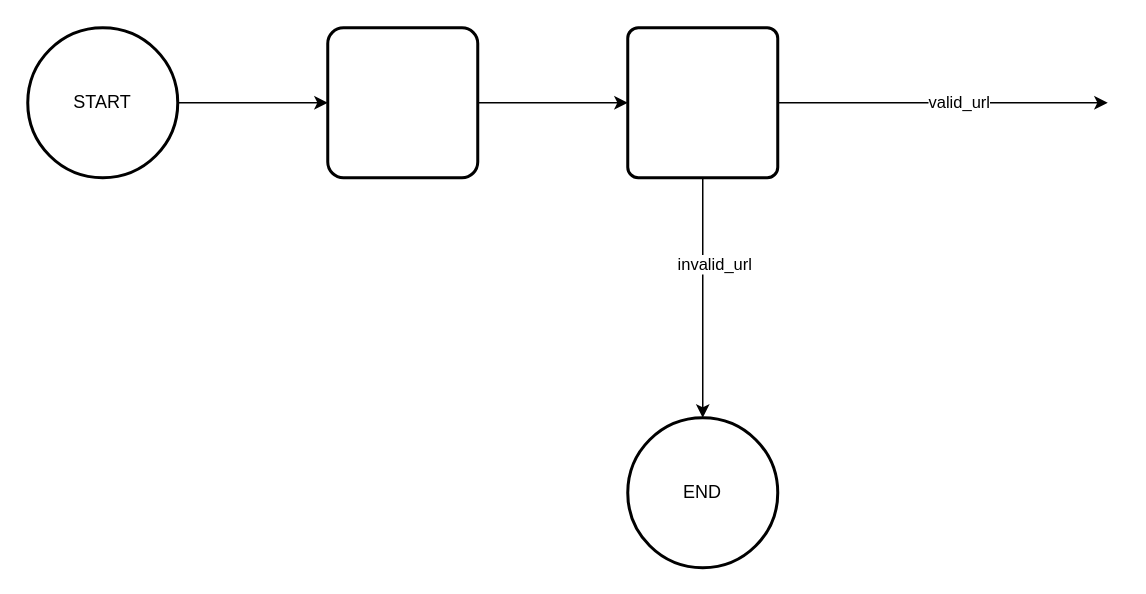
The diagram is 1146 pixels wide and 594 high, and some of its shapes have lost their labels. The shapes that lost their labels are listed below. From the top down, each one's box as (x1, y1, x2, y2) in pixels, then its label:
(326, 26, 478, 178): get_url
(626, 26, 778, 178): validate_url
